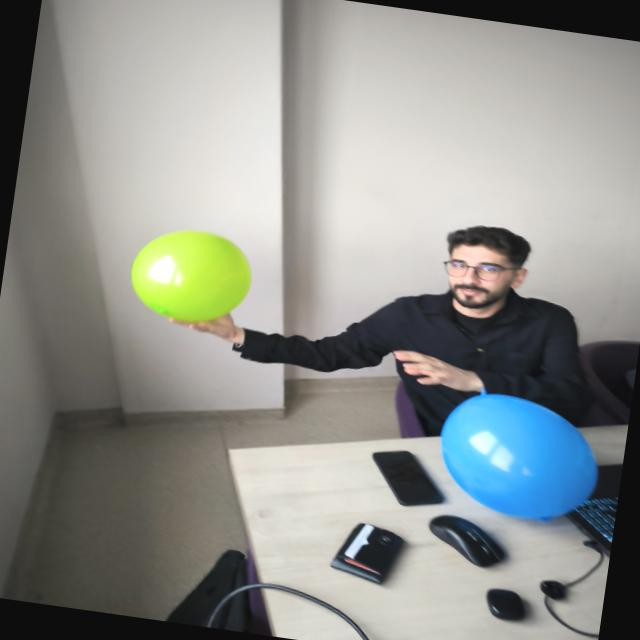balloon: (441, 394, 597, 519), (131, 231, 251, 322)
